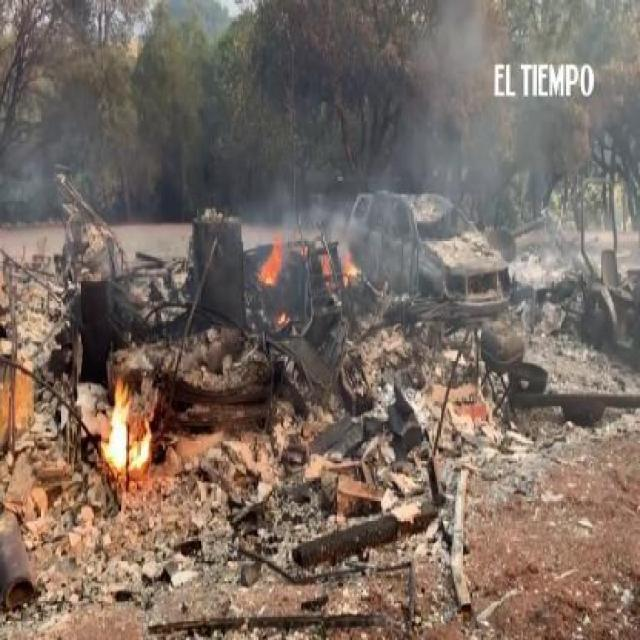Fire: (104, 380, 154, 476), (256, 230, 282, 284), (344, 258, 356, 284), (275, 310, 288, 324)
